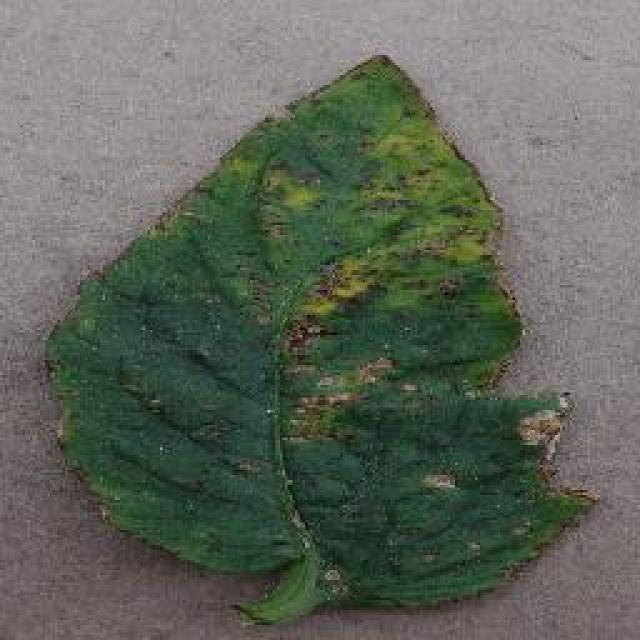bacterial spot: (44, 55, 610, 633)
